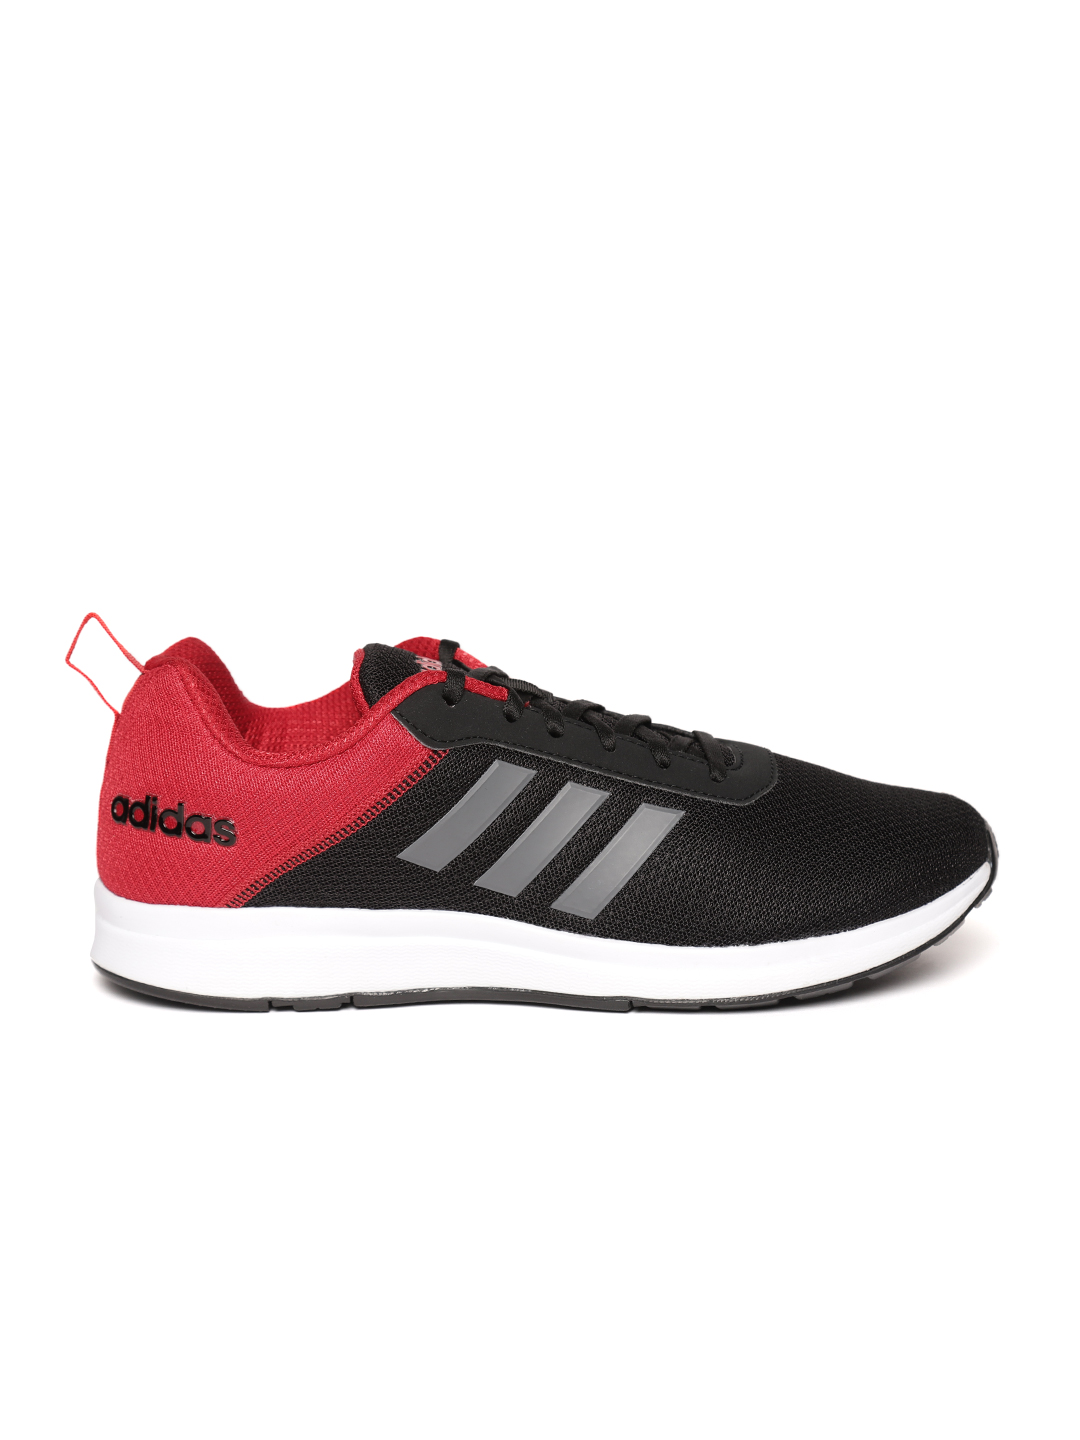shoe: (37, 587, 1062, 1053)
